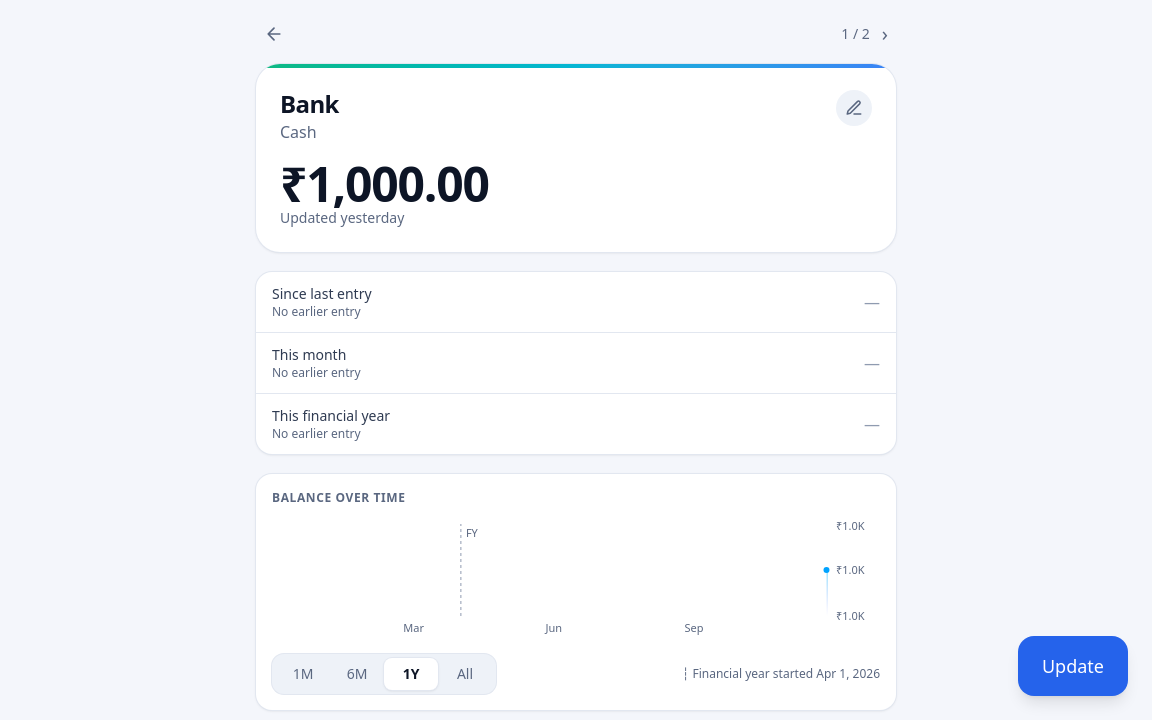
Scenario: UpdateBalanceSheet › rejects amount ""
Click the button "Update". click: point(1073, 666)
box: [1018,636,1128,696]
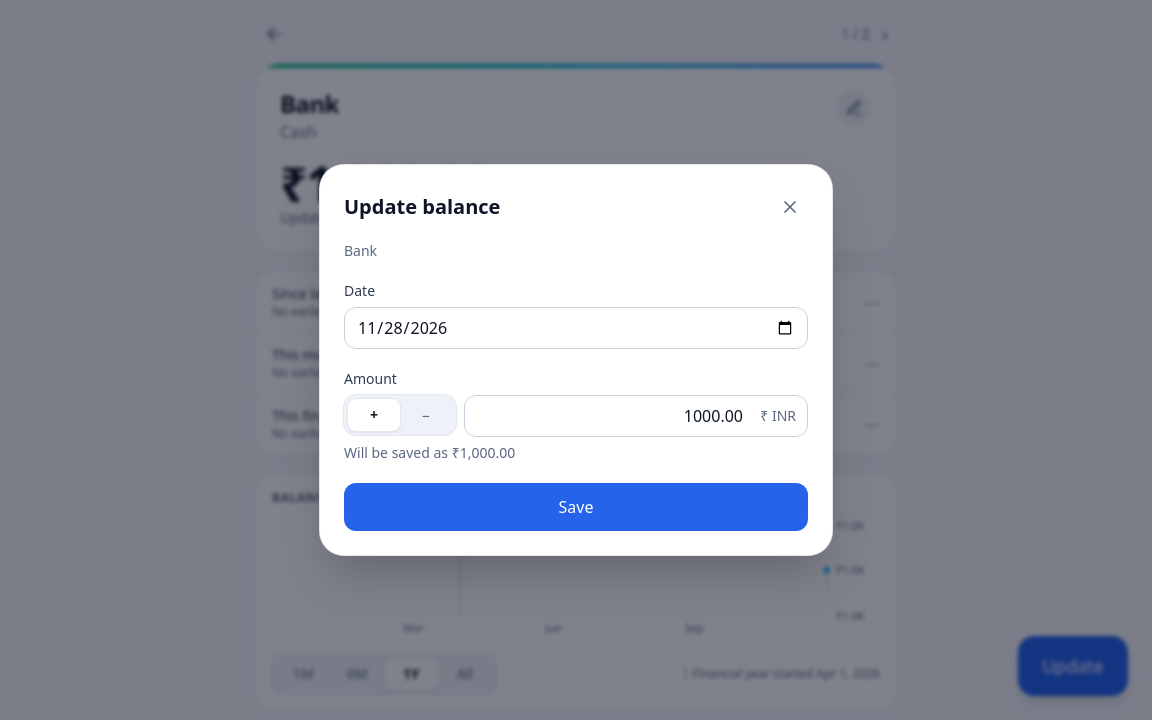
Clear the field labelled "Amount". click: point(636, 416)
box: [464,395,808,437]
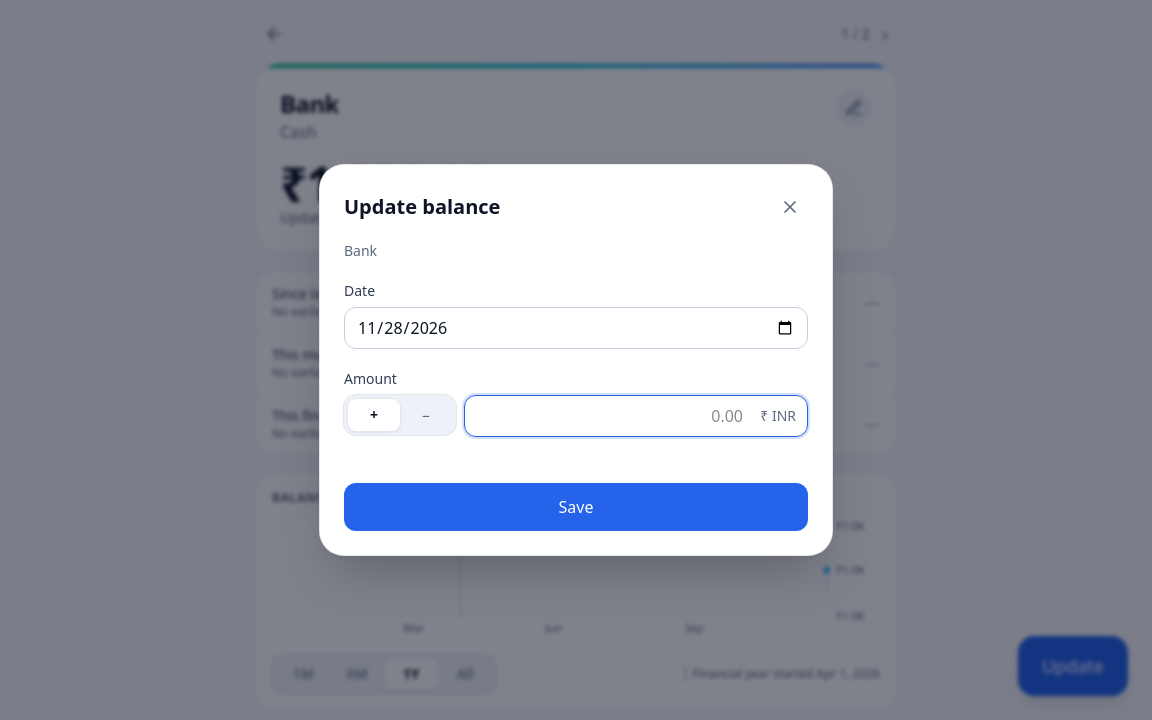
Click the button "Save". click: point(576, 507)
box: [344,483,808,531]
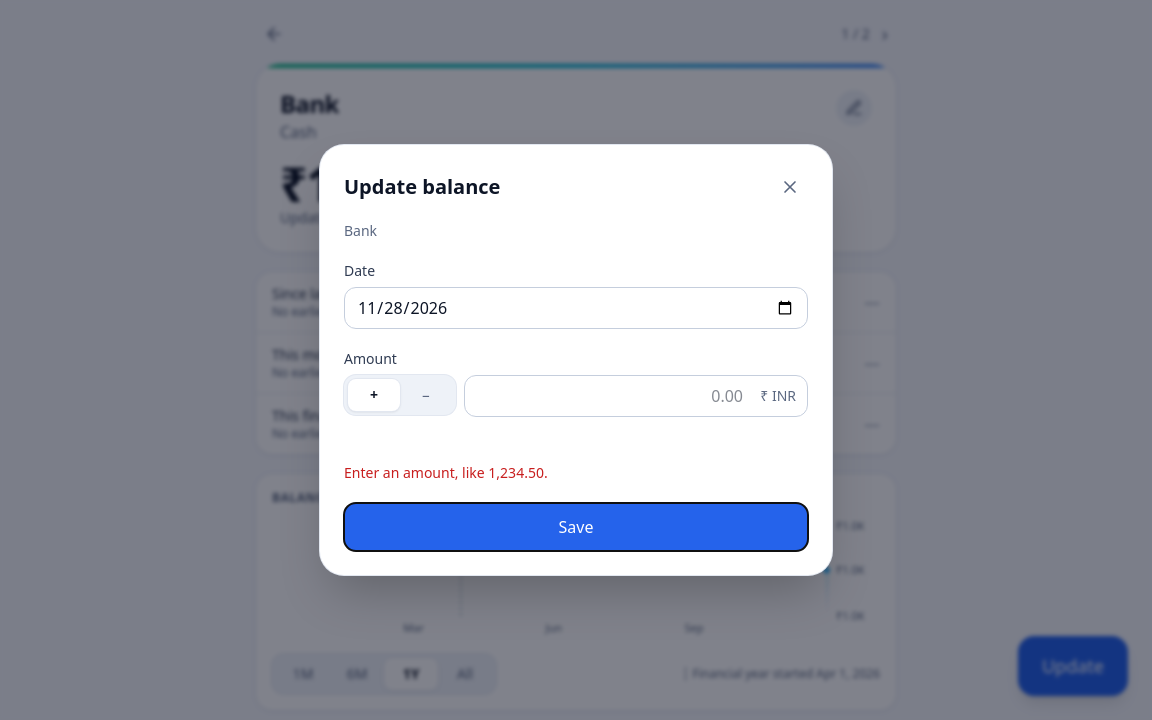
Check: the message shows "Enter an amount", box [344,463,548,482]
